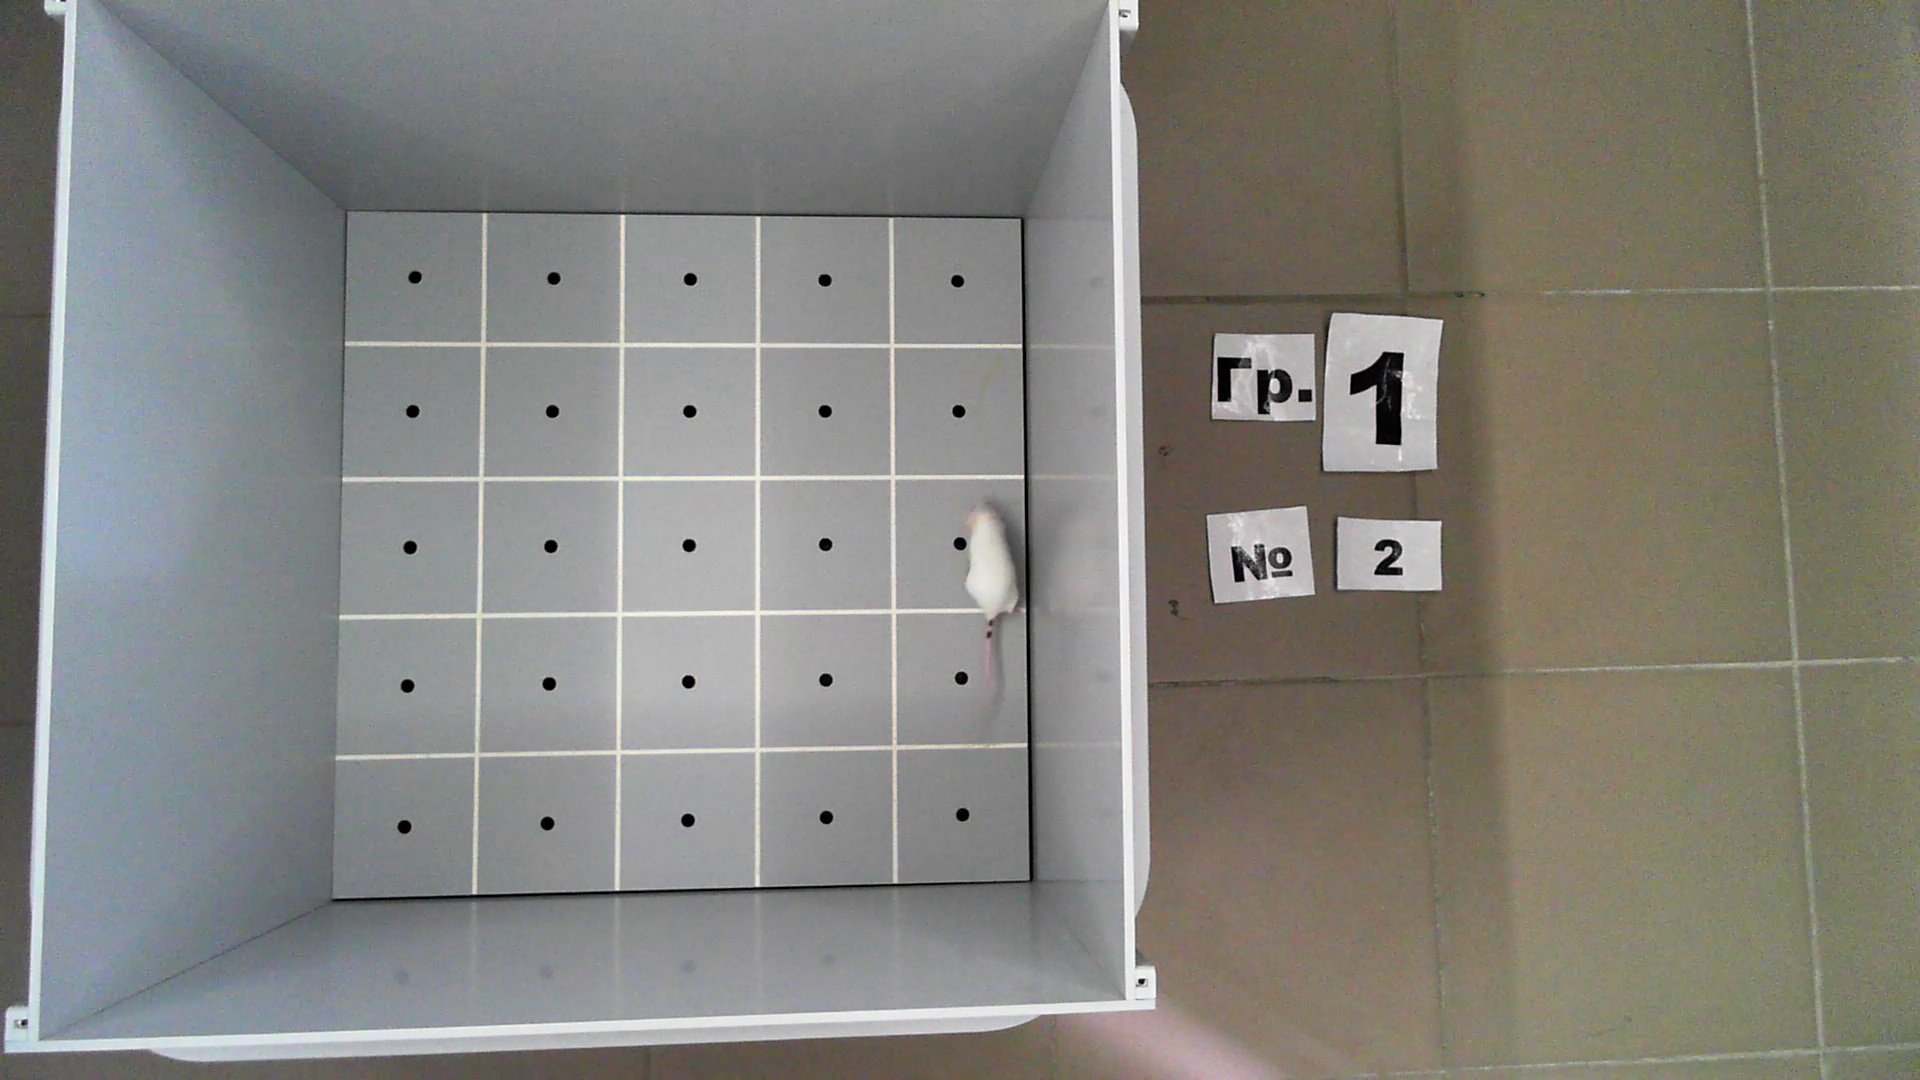mouse: (964, 498, 1021, 716)
